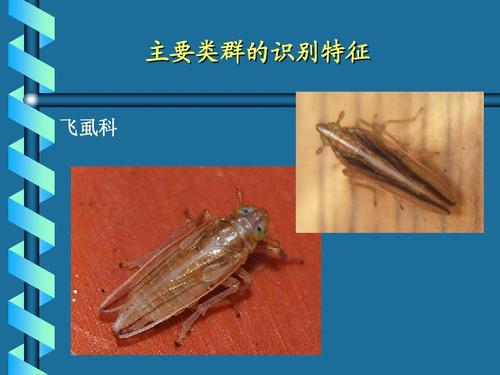Delphacidae: (99, 171, 304, 348), (314, 106, 458, 218)
